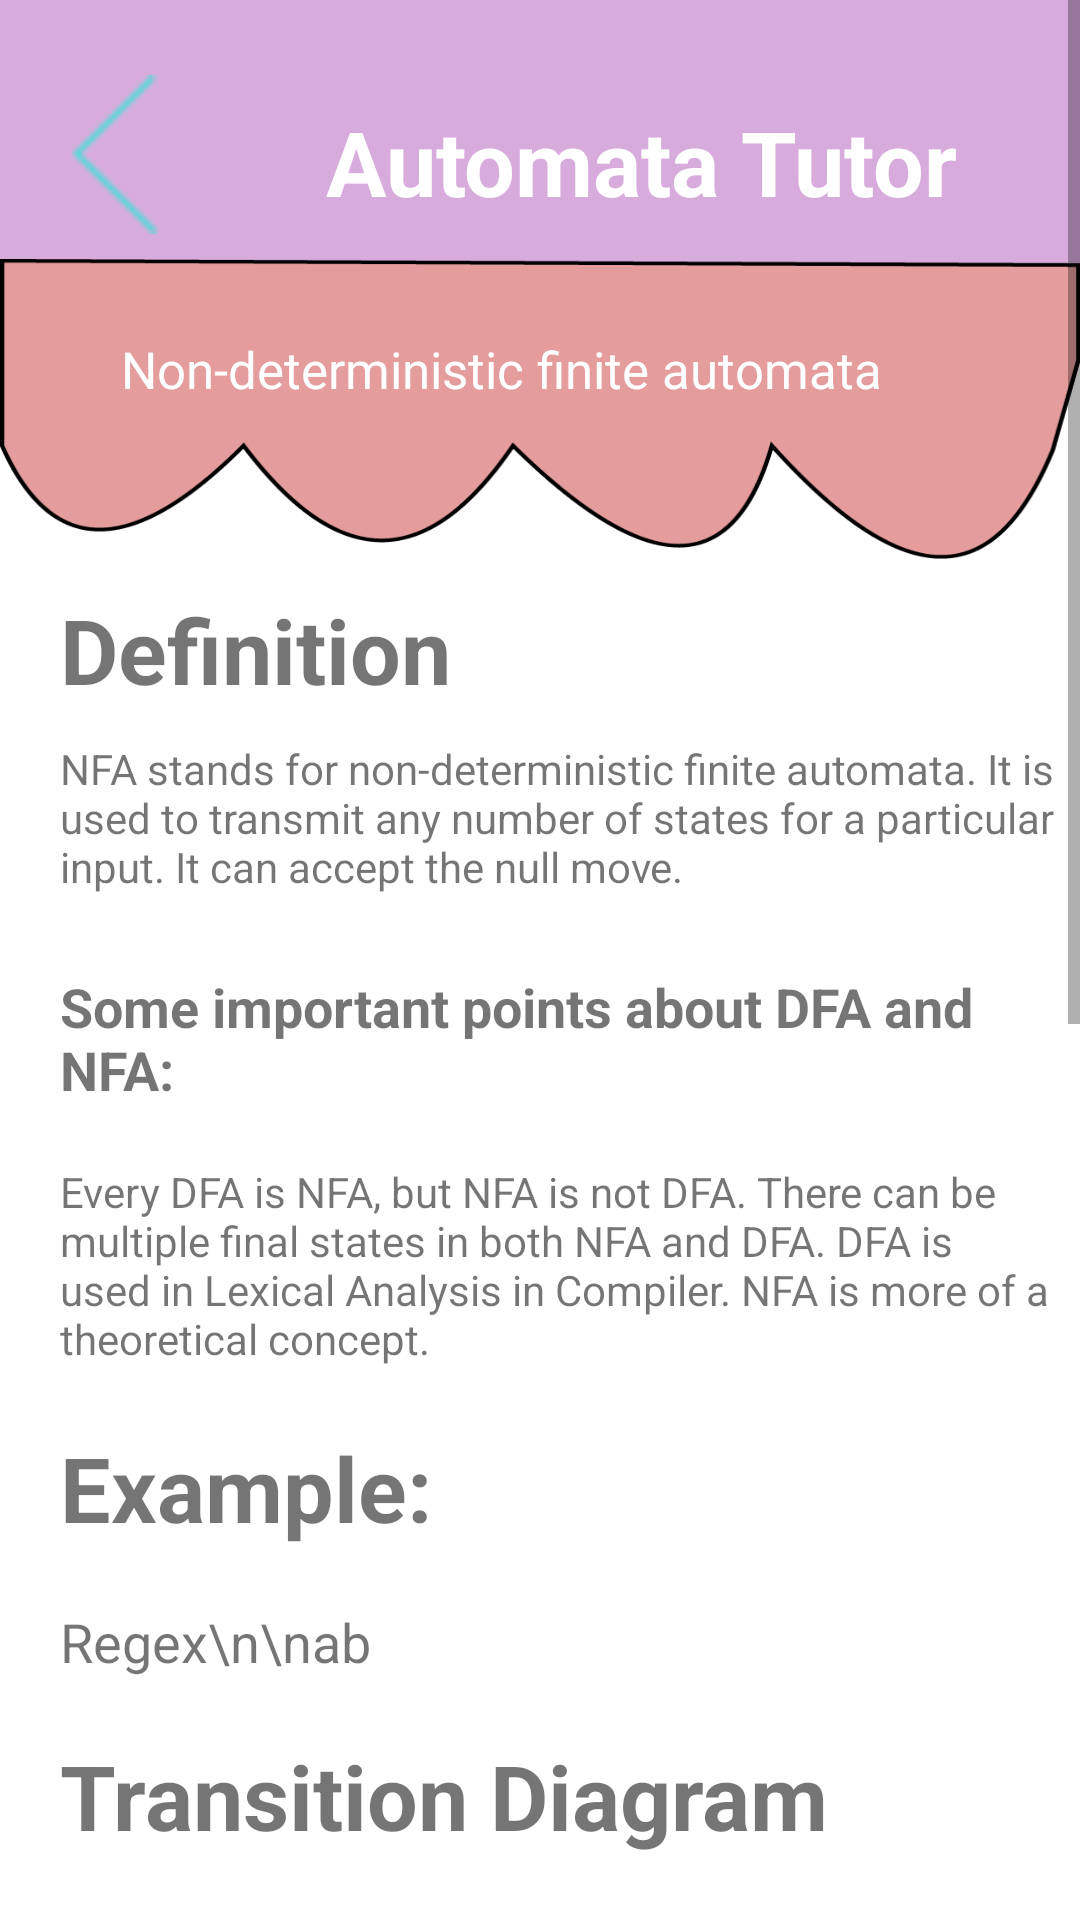

Locate icon controls on the screen. Image size 1080px×1920px, boxes as (x1, y1, x2, y2).
backiconimg: (72, 75, 158, 234)
